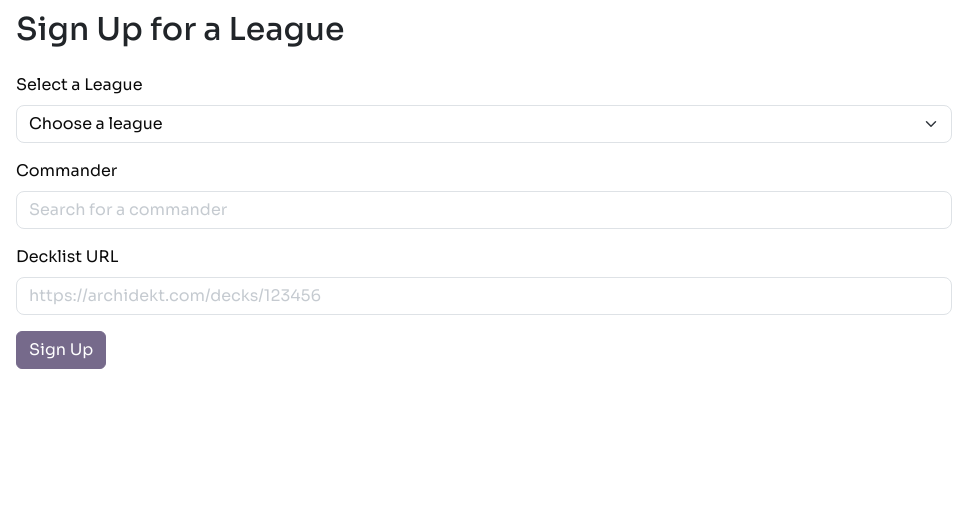
Scenario: SignUp › Partner commander › should show partner field when commander has partner ability
Type "Thr" into the field labelled "Commander" at {"x": 484, "y": 210}, box [16, 191, 952, 229]
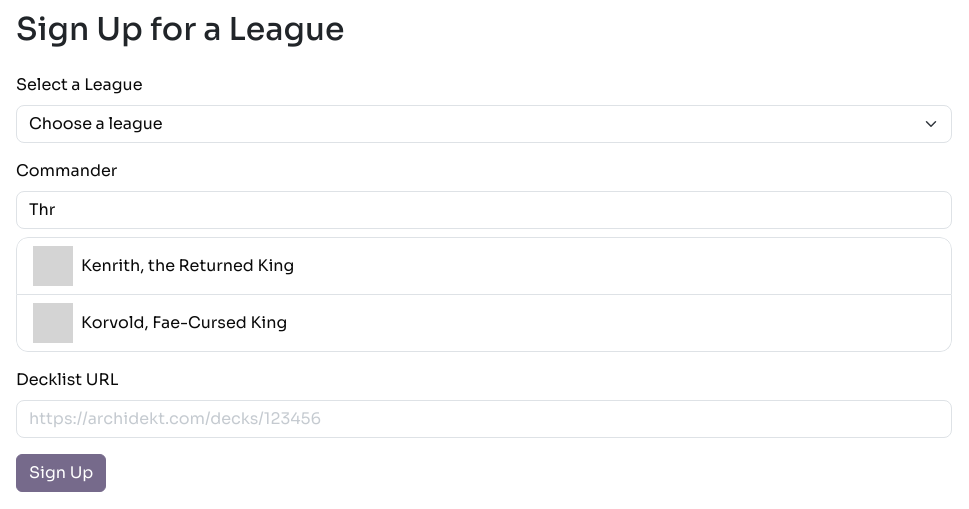
Now the list item "Kenrith, the Returned King" is shown
Click the list item "Kenrith, the Returned King" at {"x": 484, "y": 266}, box [16, 237, 952, 295]
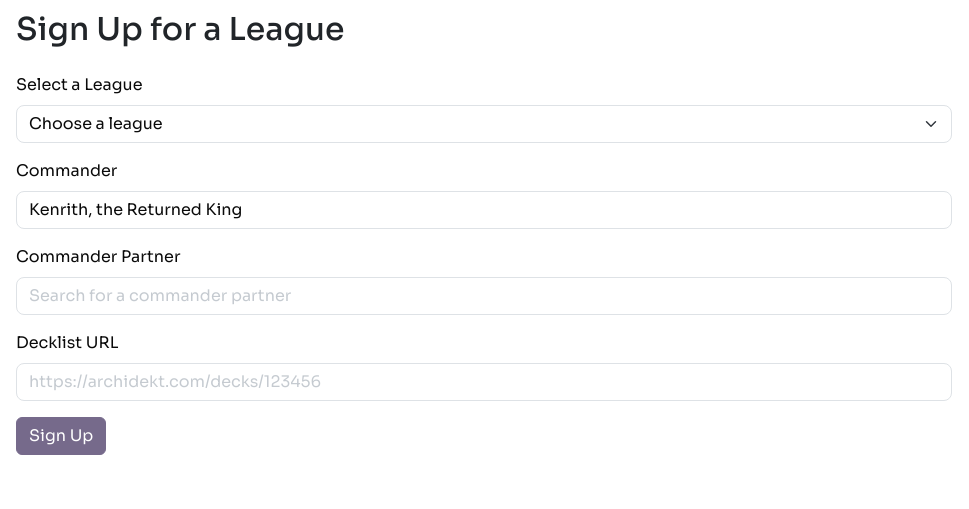
Now the field labelled "Commander Partner" is shown, box [16, 277, 952, 315]
